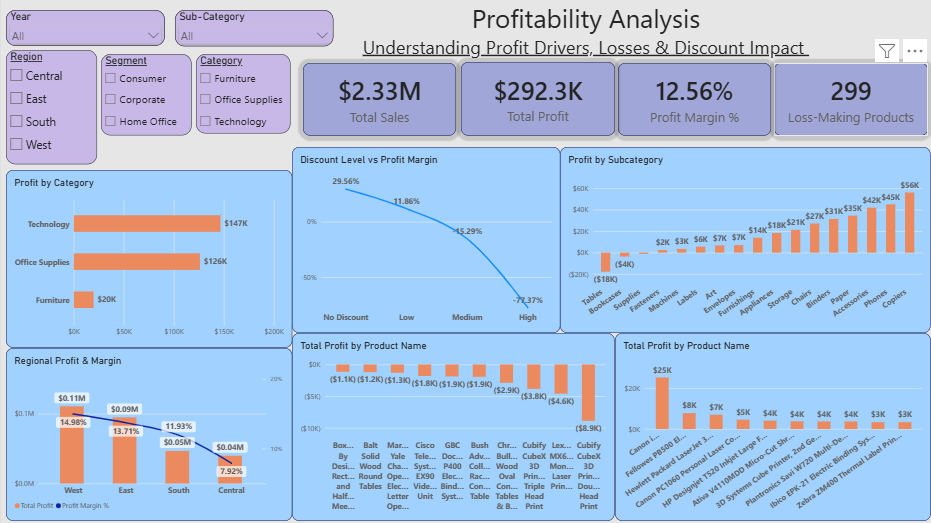

This screenshot's page, from the dashboard's own definition file:
{"tool":"powerbi","page":{"name":"Profitability Analysis","canvas":[1920,1080],"ordinal":1},"visuals":[{"type":"textbox","box":[496,0,1424,176],"z":0},{"type":"card","fields":{"Values":["superstore.Total Sales"]},"box":[624,130,316,150],"z":1000},{"type":"card","fields":{"Values":["superstore.Loss-Making Products"]},"box":[1596,130,318,150],"z":2000},{"type":"card","fields":{"Values":["superstore.Profit Margin %"]},"box":[1274,130,316,150],"z":3000},{"type":"card","fields":{"Values":["superstore.Total Profit"]},"box":[950,128,318,152],"z":4000},{"type":"barChart","title":"Profit by Category","fields":{"Category":["superstore.Category"],"Y":["superstore.Total Profit"]},"box":[9.9,350.8,591.2,366.6],"z":5000},{"type":"lineClusteredColumnComboChart","title":"Regional Profit & Margin","fields":{"Category":["superstore.Region"],"Y":["superstore.Total Profit"],"Y2":["superstore.Profit Margin %"]},"box":[9.9,719.3,591.2,356.7],"z":6000},{"type":"lineChart","title":"Discount Level vs Profit Margin","fields":{"Category":["superstore.Discount Band"],"Y":["superstore.Profit Margin %"]},"box":[601.1,303.5,553.8,384.3],"z":7000},{"type":"columnChart","title":"Profit by Subcategory","fields":{"Category":["superstore.Sub-Category"],"Y":["superstore.Total Profit"]},"box":[1154.9,303.5,764.7,384.3],"z":8000},{"type":"clusteredColumnChart","fields":{"Category":["superstore.Product Name"],"Y":["superstore.Total Profit"]},"box":[1267.2,687.8,652.3,388.2],"z":9000},{"type":"clusteredColumnChart","fields":{"Category":["superstore.Product Name"],"Y":["superstore.Total Profit"]},"box":[601.1,687.8,666.1,388.2],"z":10000},{"type":"slicer","fields":{"Values":["DateTable.Year"]},"box":[9.9,19.7,328,74],"z":11000},{"type":"slicer","fields":{"Values":["superstore.Region"]},"box":[9.9,102.5,188,236],"z":12000},{"type":"slicer","fields":{"Values":["superstore.Category"]},"box":[402,112.3,195.1,163.6],"z":13000},{"type":"slicer","fields":{"Values":["superstore.Sub-Category"]},"box":[358.7,19.7,327.2,74.9],"z":14000},{"type":"slicer","fields":{"Values":["superstore.Segment"]},"box":[206.9,112.3,187.2,167.5],"z":15000}]}

Visuals, with their boxes in screenshot pixels (x1, y1, x2, y2), scaled from the page's 1920x1080 canvas onto the 931x523 screenshot:
textbox: [241, 0, 930, 85]
card - superstore.Total Sales: [303, 63, 456, 136]
card - superstore.Loss-Making Products: [774, 63, 928, 136]
card - superstore.Profit Margin %: [618, 63, 771, 136]
card - superstore.Total Profit: [461, 62, 615, 136]
"Profit by Category" barChart: [5, 170, 291, 347]
"Regional Profit & Margin" lineClusteredColumnComboChart: [5, 348, 291, 521]
"Discount Level vs Profit Margin" lineChart: [291, 147, 560, 333]
"Profit by Subcategory" columnChart: [560, 147, 930, 333]
clusteredColumnChart - superstore.Product Name x superstore.Total Profit: [614, 333, 930, 521]
clusteredColumnChart - superstore.Product Name x superstore.Total Profit: [291, 333, 614, 521]
slicer - DateTable.Year: [5, 10, 164, 45]
slicer - superstore.Region: [5, 50, 96, 164]
slicer - superstore.Category: [195, 54, 290, 134]
slicer - superstore.Sub-Category: [174, 10, 333, 46]
slicer - superstore.Segment: [100, 54, 191, 135]
